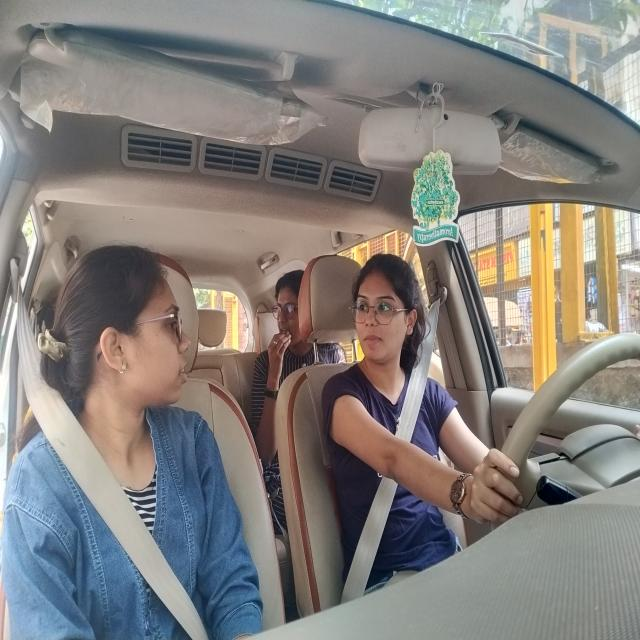LeftRight: (350, 254, 421, 372)
person: (86, 241, 199, 405), (268, 268, 313, 348)
